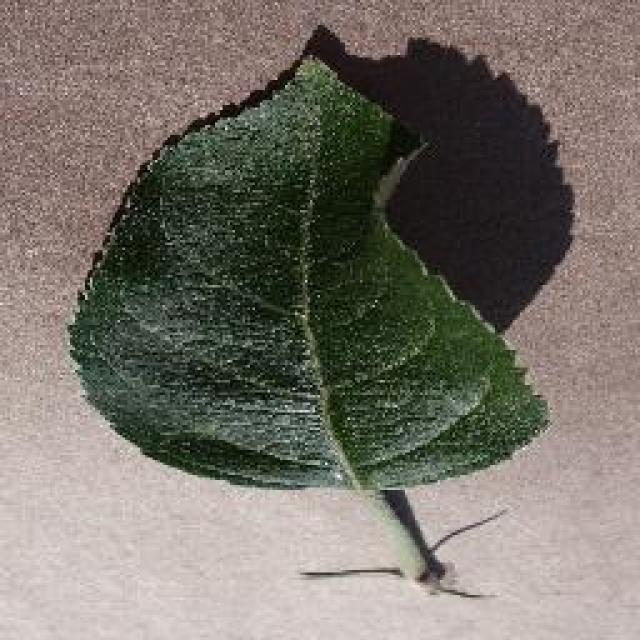Apple___healthy: (55, 32, 555, 610)
